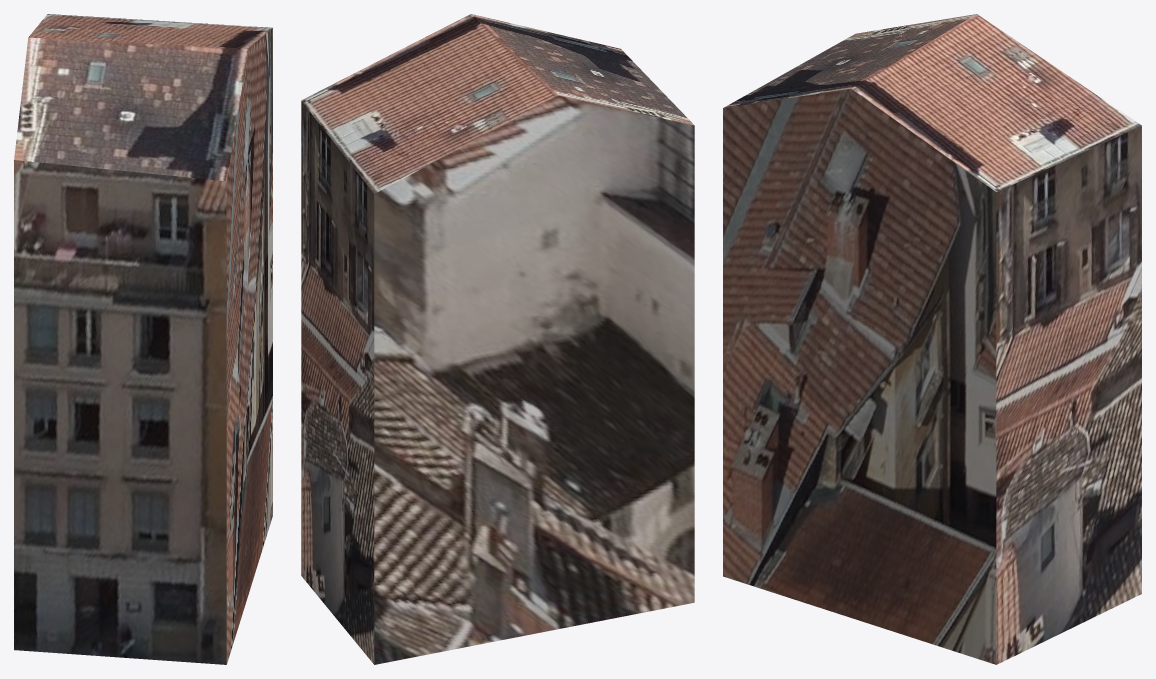
3 renders of one model, left to right at view 1: azimuth 30°, elevation 25°; view 2: azimuth 150°, elevation 25°; view 3: azimuth 270°, elevation 25°, orthographic. The views are drawn at different scales.
Parts seen in each view (by area): view 1: Z_UP; view 2: Z_UP; view 3: Z_UP.
Part boxes in pixels (x1,y1,x2,y2): Z_UP: (14, 14, 272, 664); Z_UP: (301, 14, 694, 664); Z_UP: (723, 14, 1141, 664).
Size of the model in its own units: 12.96 by 20.46 by 14.64.
Materials: 2 (1 with a texture image).
